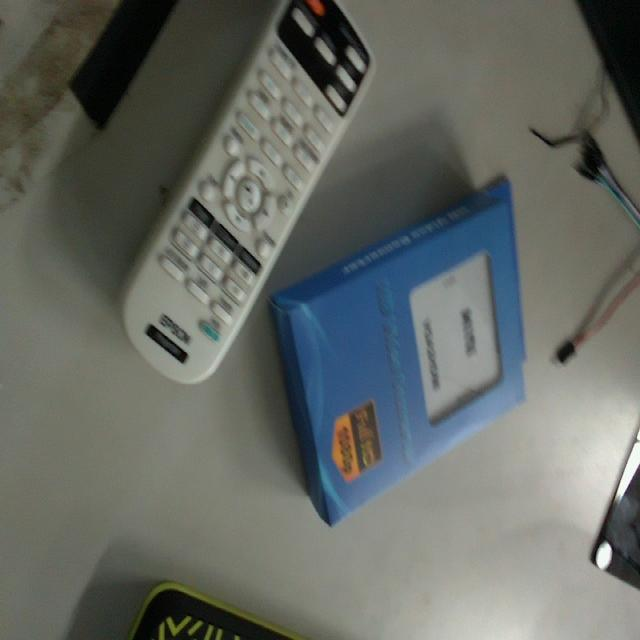remote: (279, 172, 539, 532), (124, 5, 368, 388)
